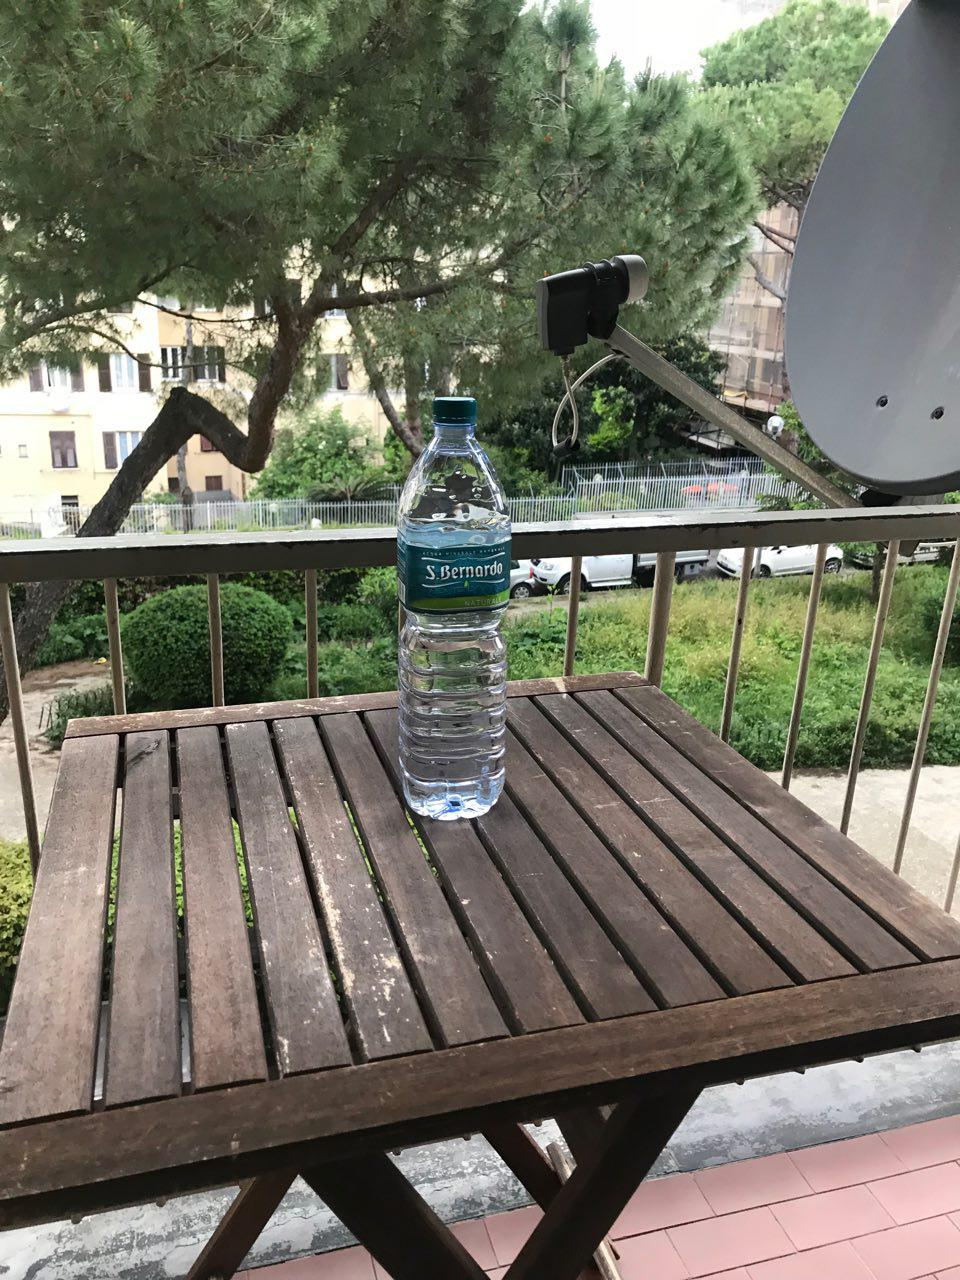san_bernardo: (395, 394, 514, 821)
